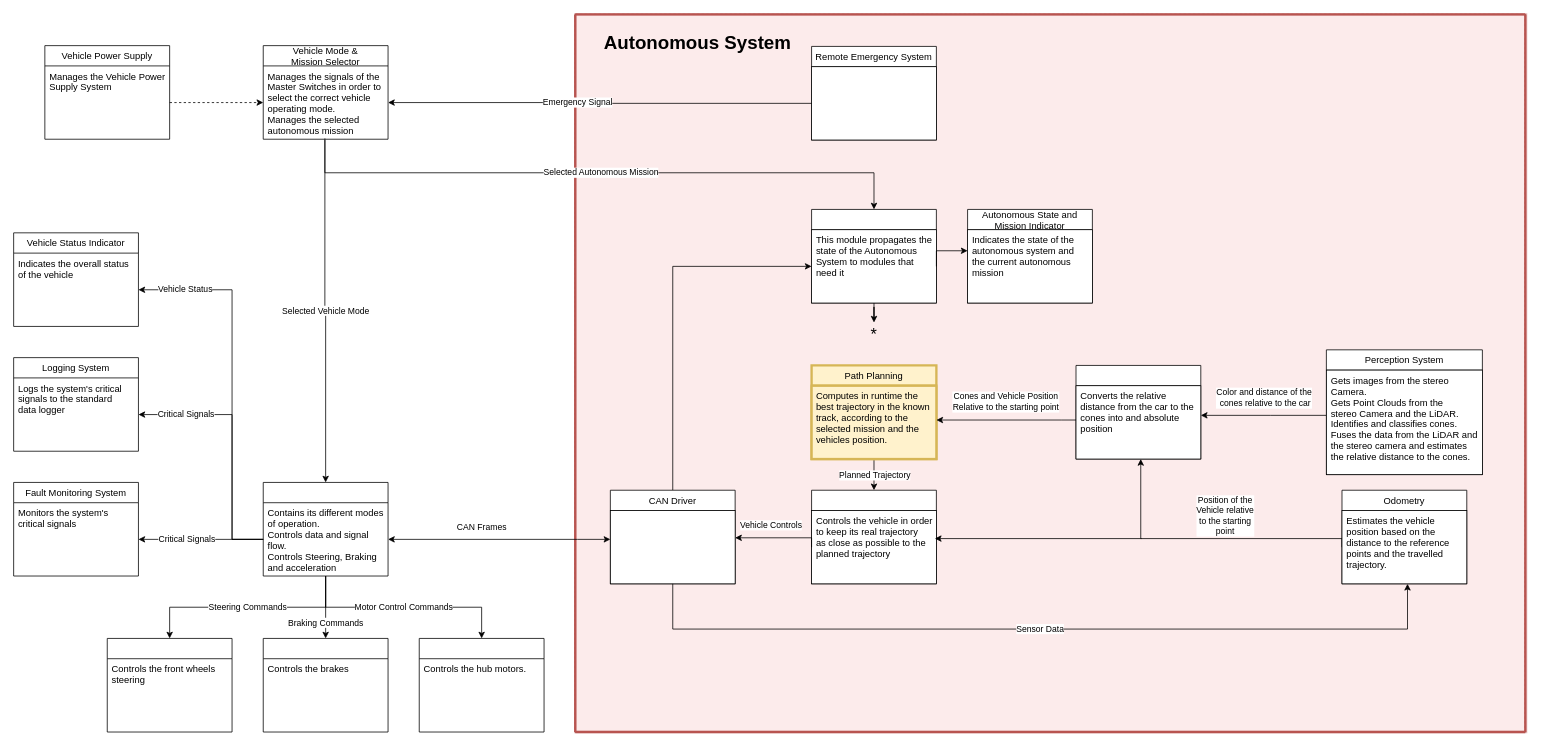
Some shapes in this 1541 by 748 pixel diagram are drawn without their labels. The box of each missing label's shape, as (x1, y1, x2, y2) in pixels:
Autonomous System State Machine: (811, 209, 936, 303)
Autopilot: (811, 489, 936, 584)
Braking System: (262, 638, 388, 732)
Interface with the CAN bus: (610, 510, 735, 584)
Mapping: (1075, 365, 1201, 459)
Receives the RF signal from the RES transmitter and requests emergency mode: (811, 66, 936, 140)
Steering System: (106, 638, 232, 732)
Tractive System: (418, 638, 544, 732)
Vehicle Control Unit: (262, 482, 388, 576)
